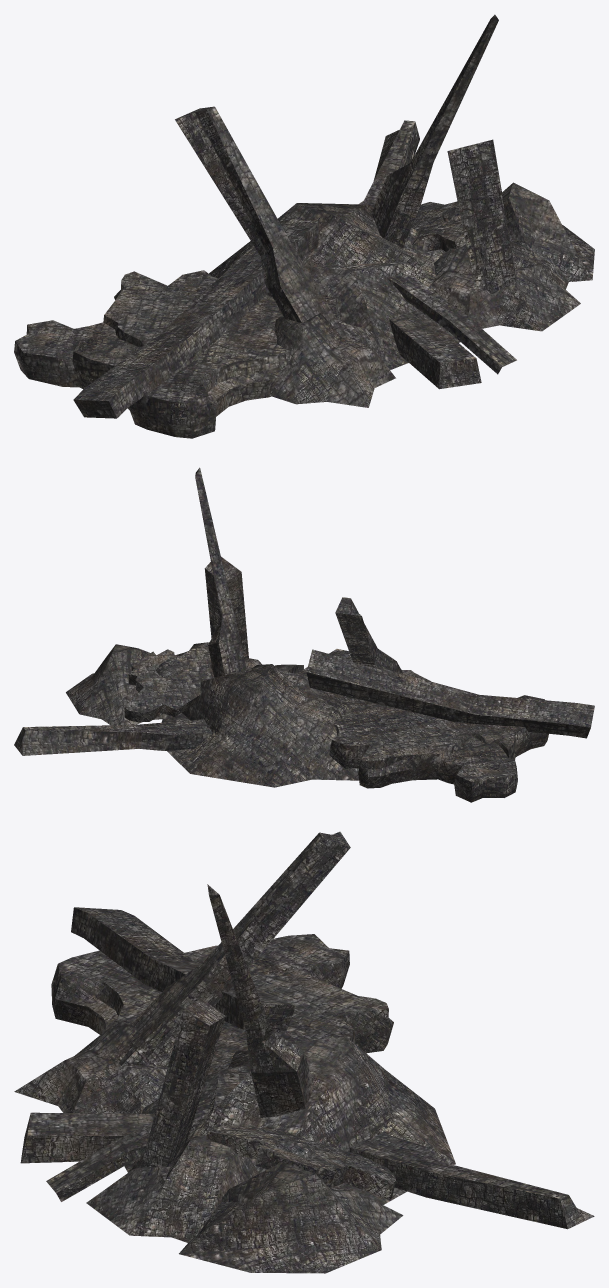
File: eso_gu11_BurntDebris6-transformed.glb
The picture shows the model from 3 angles, top to bottom: view 1: azimuth 30°, elevation 25°; view 2: azimuth 150°, elevation 25°; view 3: azimuth 270°, elevation 25°; orthographic projection. The views are drawn at different scales.
Parts seen in each view (by area): view 1: default; view 2: default; view 3: default.
Boxes of the visible parts, <box> form: default: <box>14,14,594,438</box>; default: <box>14,467,594,802</box>; default: <box>14,831,594,1273</box>.
Bounding box in the file's own units: 9.2 × 4.5 × 6.9.
Materials: 1 (1 with a texture image).
